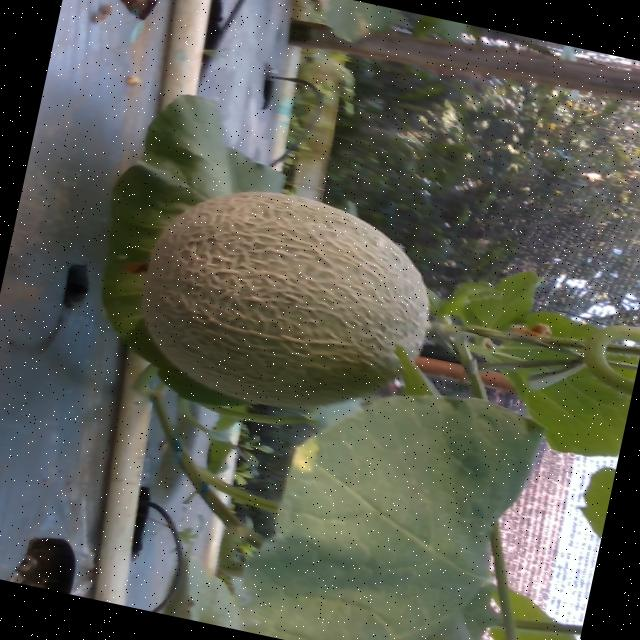melon: (139, 191, 428, 407)
